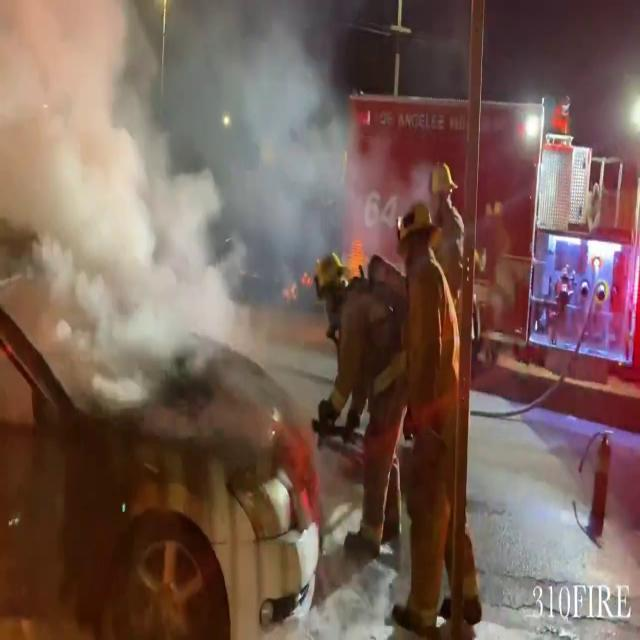Smoke: (0, 0, 379, 353)
